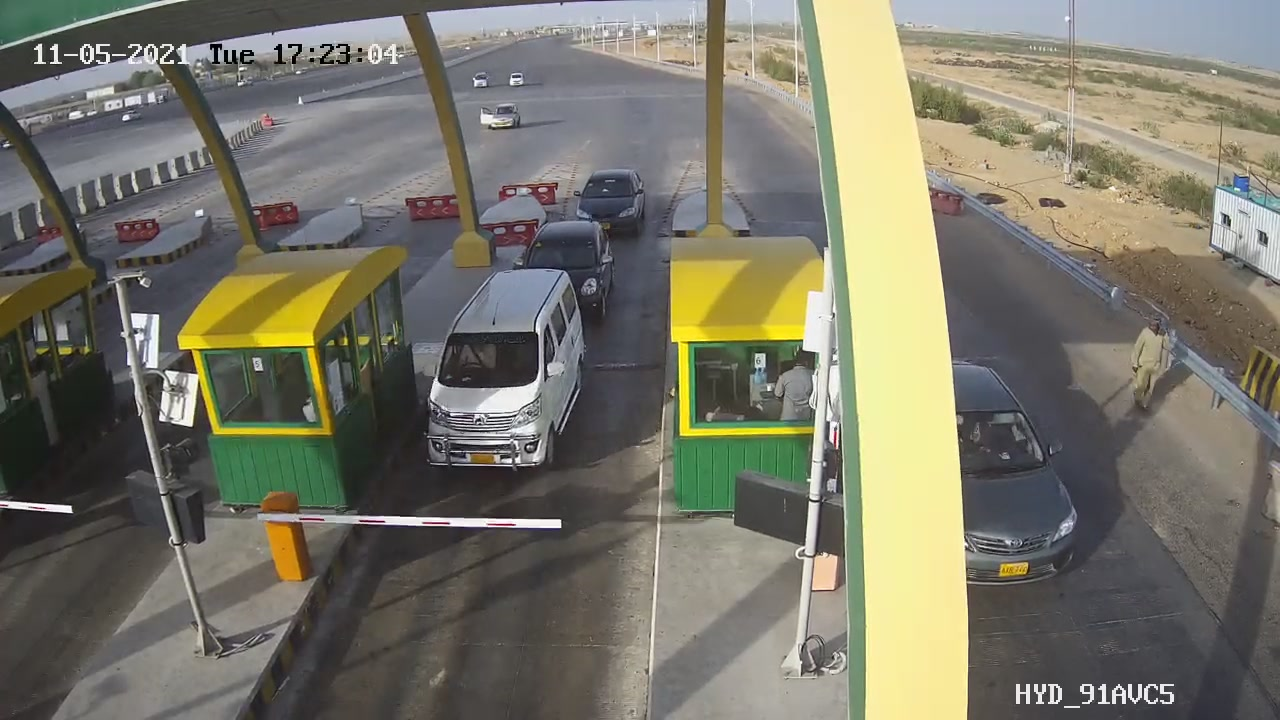F1: (411, 255, 608, 485)
